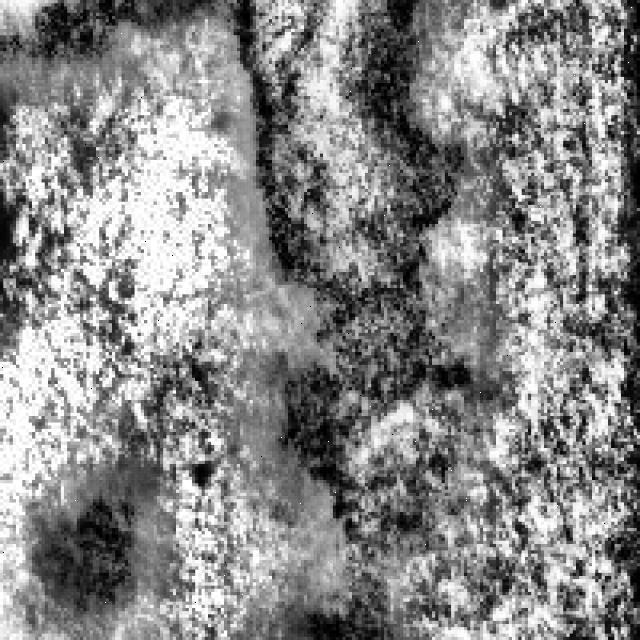Scratches: (253, 0, 477, 534)
